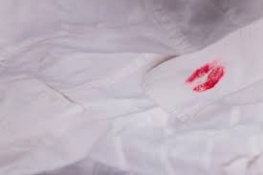lipstick: (184, 61, 224, 92)
